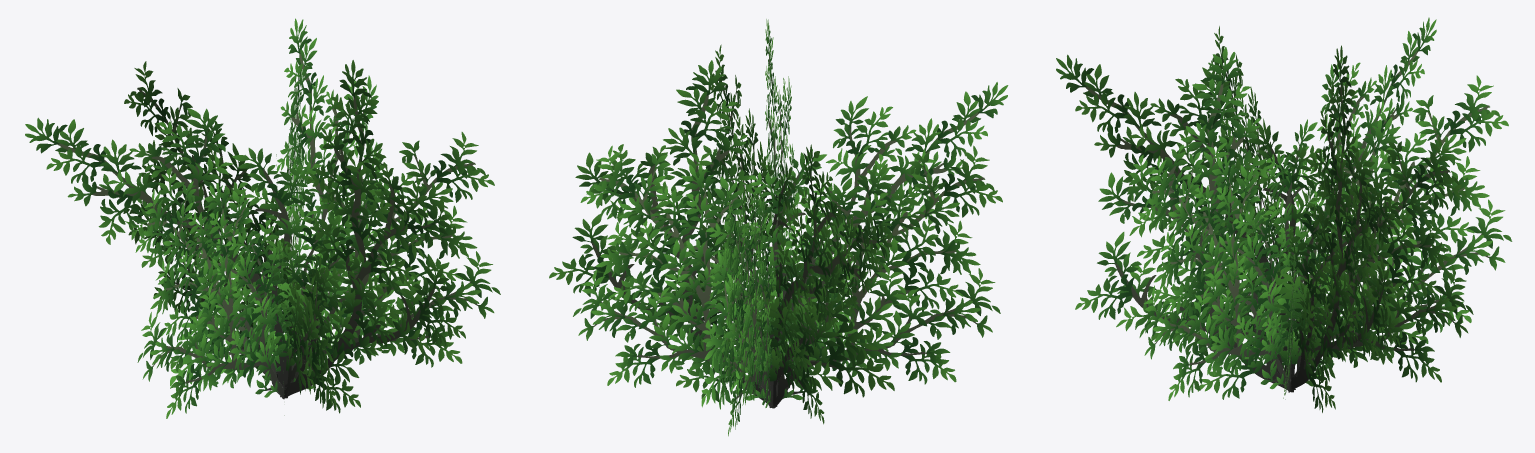
The model's file is bush1.glb.
The picture shows the model from 3 angles, left to right: view 1: azimuth 30°, elevation 25°; view 2: azimuth 150°, elevation 25°; view 3: azimuth 270°, elevation 25°; orthographic projection. The views are drawn at different scales.
Parts seen in each view (by area): view 1: leaves; view 2: leaves; view 3: leaves.
Part boxes in pixels (x1,y1,x2,y2): leaves: (25,18,500,418); leaves: (549,19,1008,436); leaves: (1056,17,1512,412).
Size of the model in its own units: 6.9 by 6.81 by 7.35.
1 material, 1 textured.
